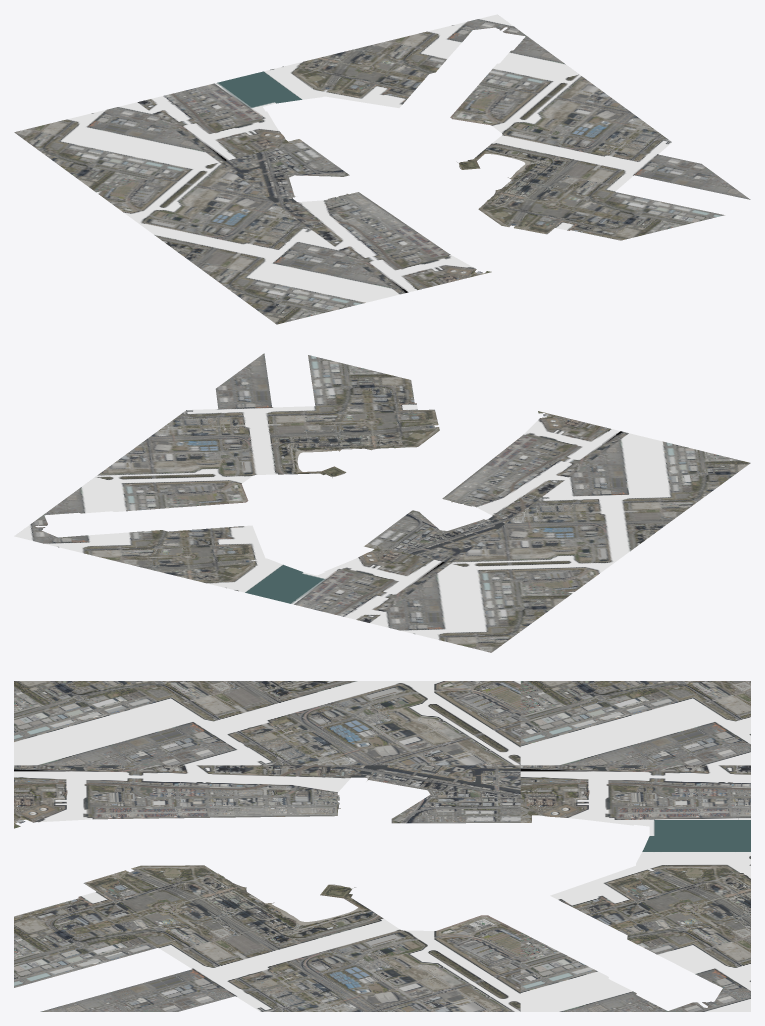
File: tokyo-ground.glb
3 views of the same model, one above another, from view 1: azimuth 30°, elevation 25°; view 2: azimuth 150°, elevation 25°; view 3: azimuth 270°, elevation 25° (orthographic). The views are drawn at different scales.
Visible parts, largest first — view 1: Odaiba reclaimed shoreline 0; view 2: Odaiba reclaimed shoreline 0; view 3: Odaiba reclaimed shoreline 0.
Part boxes in pixels (x1,y1,x2,y2): Odaiba reclaimed shoreline 0: (14,14,750,324); Odaiba reclaimed shoreline 0: (14,353,750,652); Odaiba reclaimed shoreline 0: (14,681,750,1011).
Bounding box in the file's own units: 5100 × 0 × 4800.
Materials: 1 (1 with a texture image).
